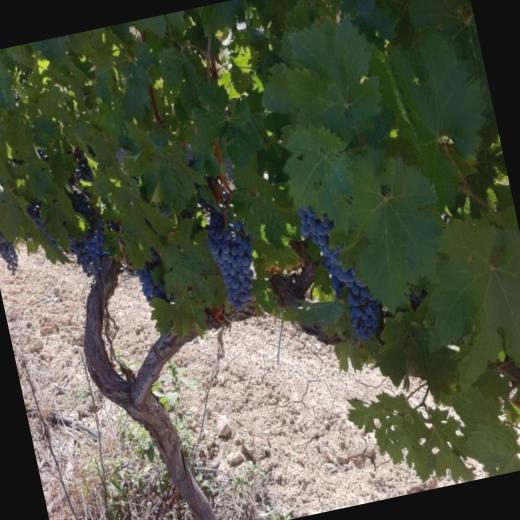Orange: (298, 194, 388, 350), (202, 210, 264, 314), (60, 187, 113, 278), (132, 245, 172, 307), (0, 173, 19, 275), (28, 205, 57, 250), (72, 144, 95, 183), (158, 200, 174, 218)
